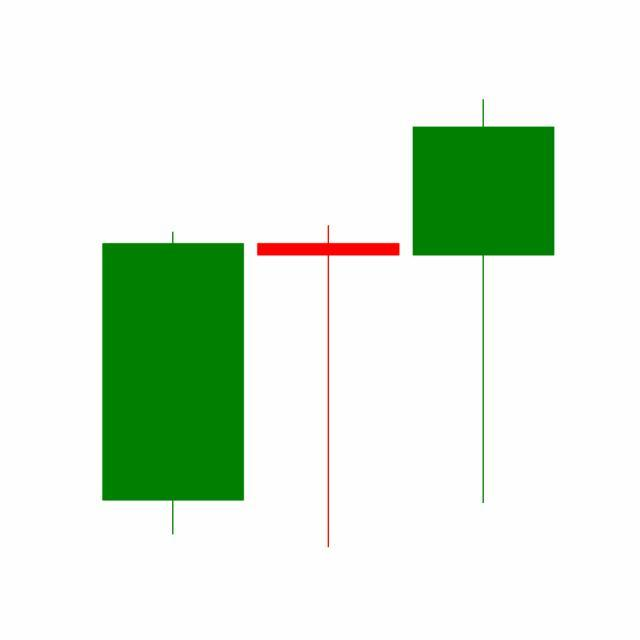Hanging Man: (406, 95, 562, 508)
